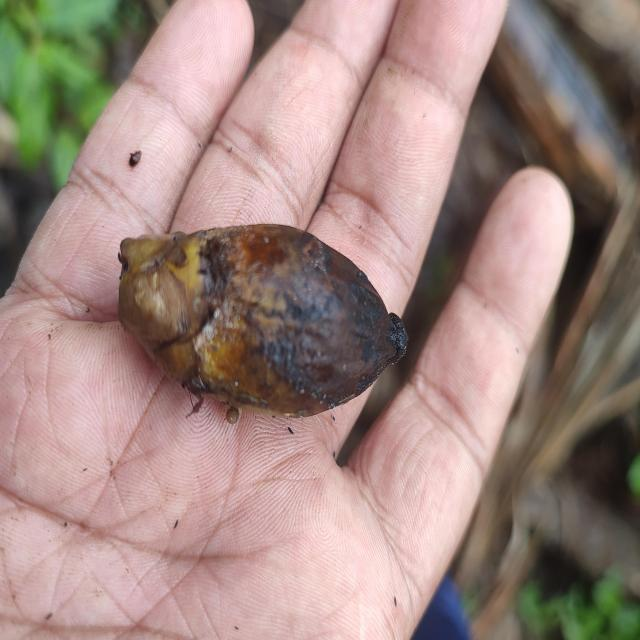damaged: (116, 223, 408, 419)
